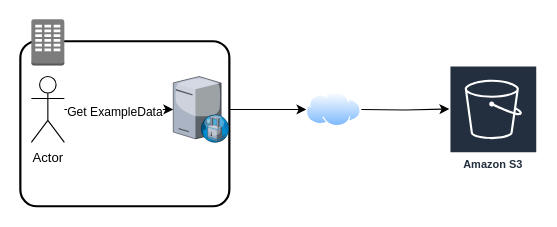
Some shapes in this 557 by 227 pixel diagram are drawn without their labels. Here are the shapes that lost their labels. From the top down, the centre of each, then its label:
At (201,109): "Egress Proxy/ Firewall".
At (333,109): "Internet".
